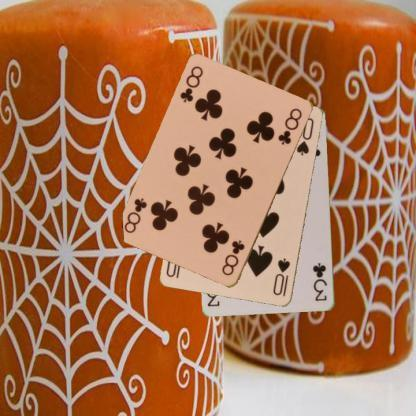10s: (270, 256, 292, 298)
3c: (310, 260, 328, 302)
8c: (219, 237, 246, 278), (178, 64, 204, 104)
